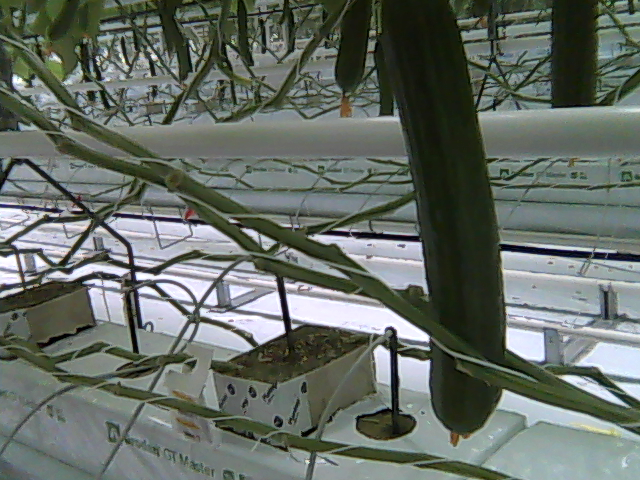concombre: (379, 1, 510, 448)
